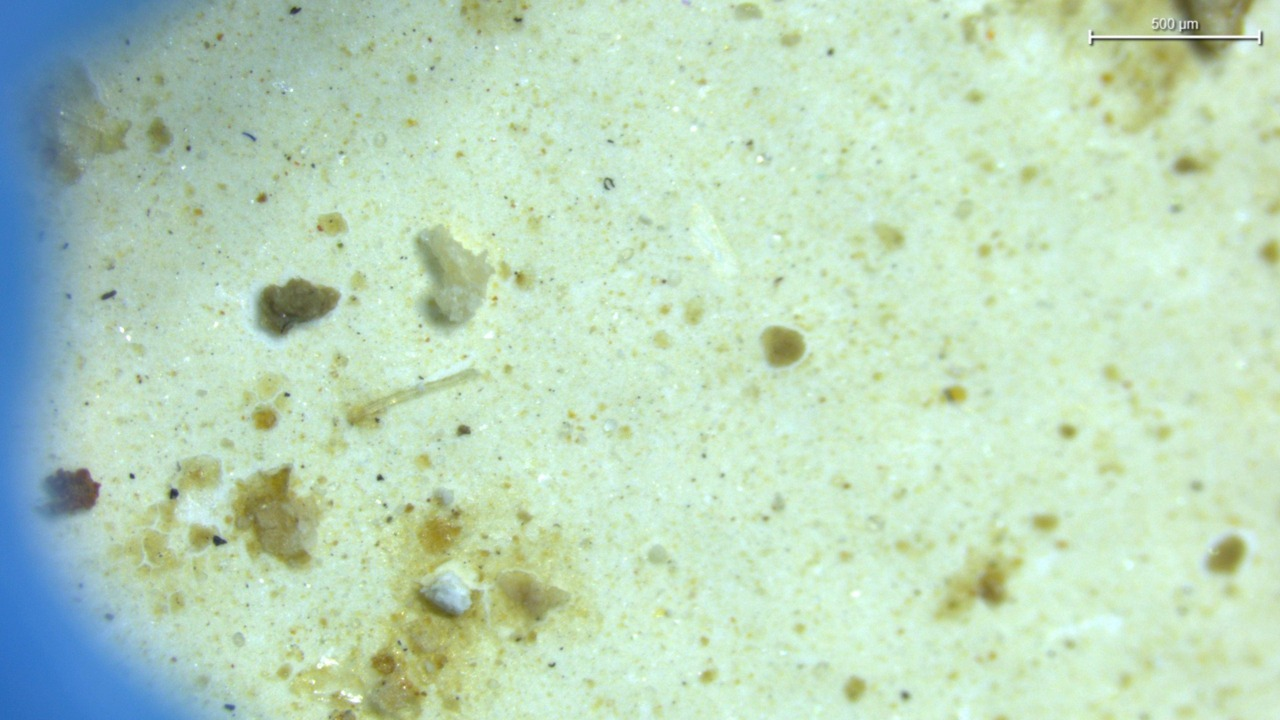microplastic_fragment: (417, 226, 494, 323), (420, 572, 472, 616)
